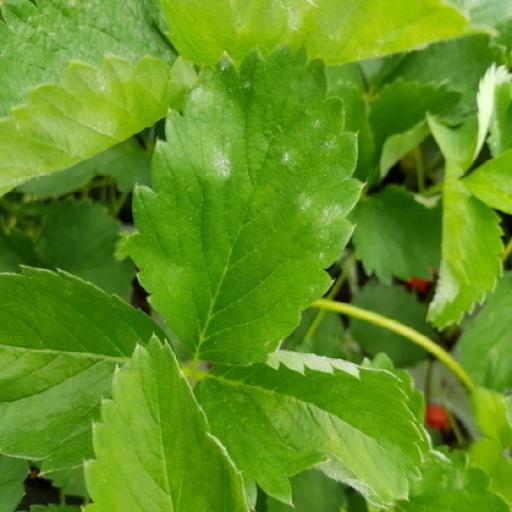Powdery Mildew Leaf: (146, 43, 388, 366), (314, 0, 511, 198), (86, 351, 322, 511), (12, 0, 358, 75), (6, 159, 87, 333)
